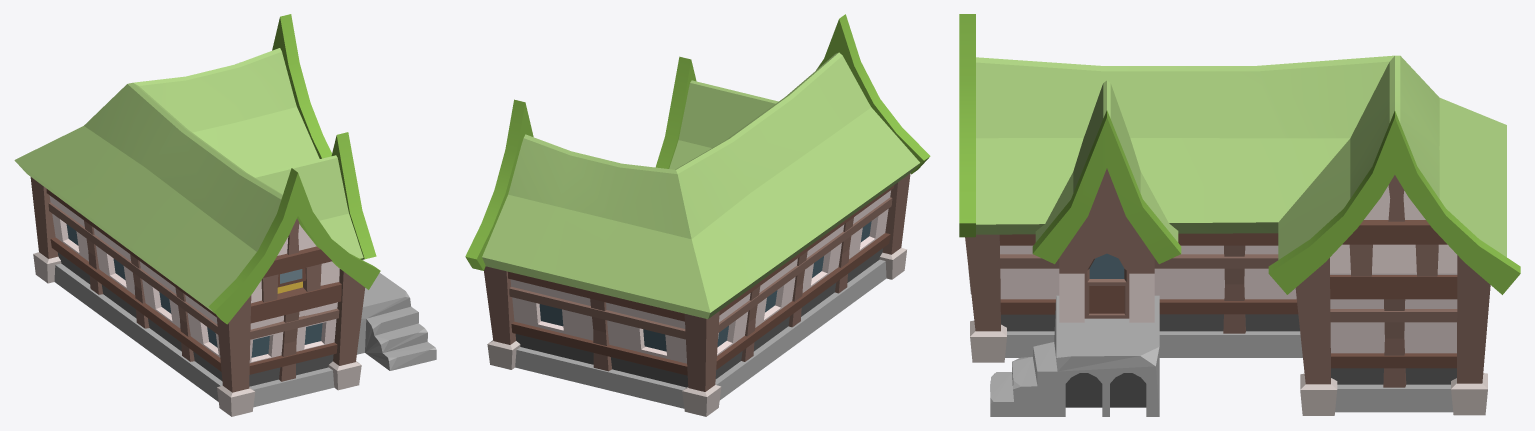
The model's file is house_011.fbx.
The picture shows the model from 3 angles, left to right: view 1: azimuth 30°, elevation 25°; view 2: azimuth 150°, elevation 25°; view 3: azimuth 270°, elevation 25°; orthographic projection. The views are drawn at different scales.
Parts seen in each view (by area): view 1: house_011; view 2: house_011; view 3: house_011.
Part boxes in pixels (<box>): house_011: <box>14,14,436,416</box>; house_011: <box>465,14,930,416</box>; house_011: <box>959,14,1520,416</box>.
Bounding box in the file's own units: 870 × 1330 × 800.
2 materials, 2 textured.
